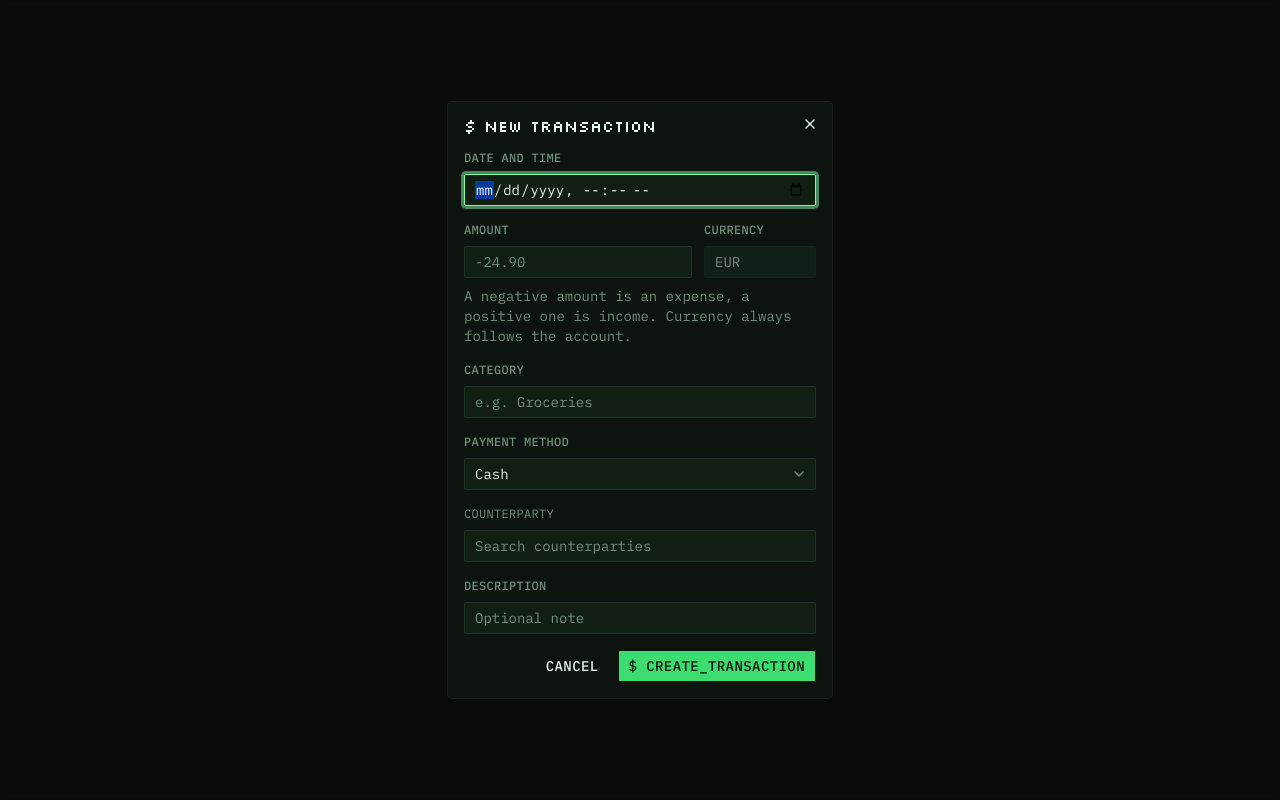
Test: <TransactionFormModal /> › blocks submission when no counterparty has been chosen
In the field labelled "Date and time": (640, 190) x1=464 y1=174 x2=816 y2=206, type "2026-03-04T09:15"
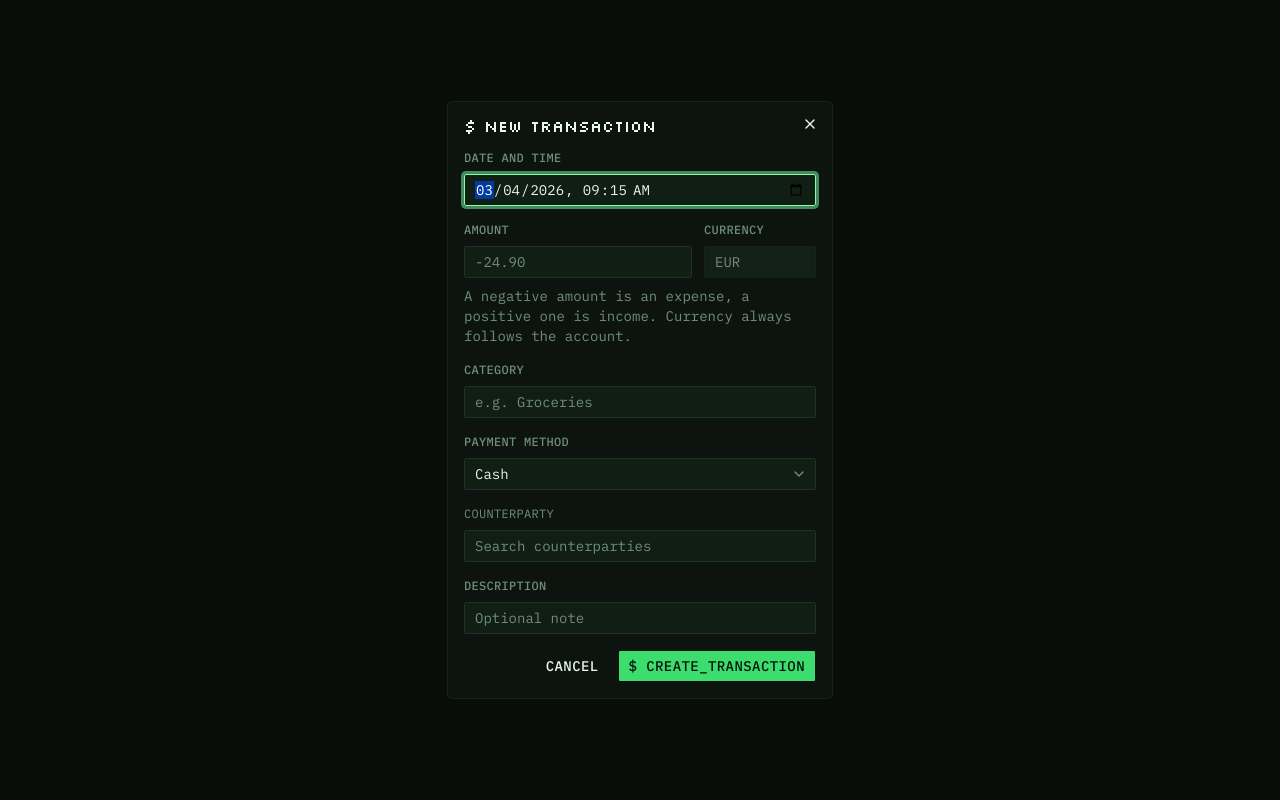
In the field labelled "Amount": (578, 262) x1=464 y1=246 x2=692 y2=278, type "-45.20"
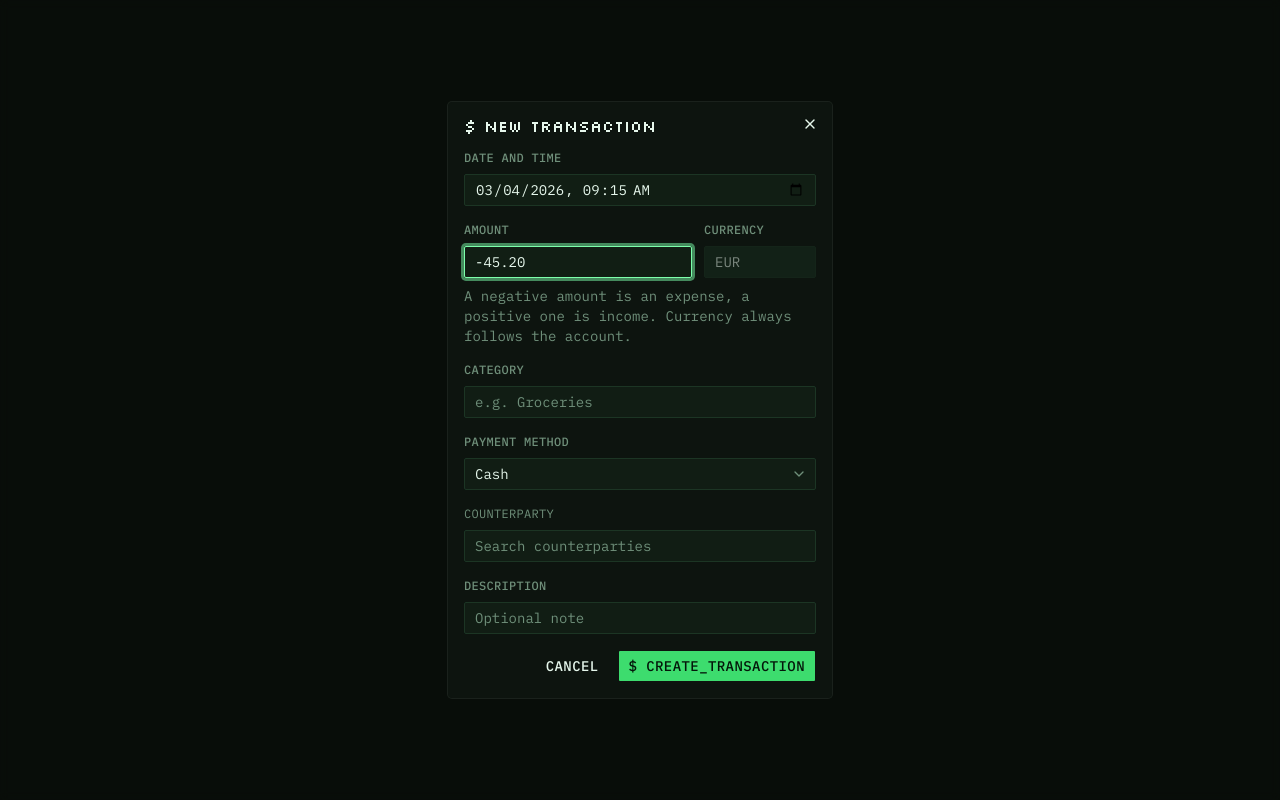
In the field labelled "Category": (640, 402) x1=464 y1=386 x2=816 y2=418, type "Groceries"
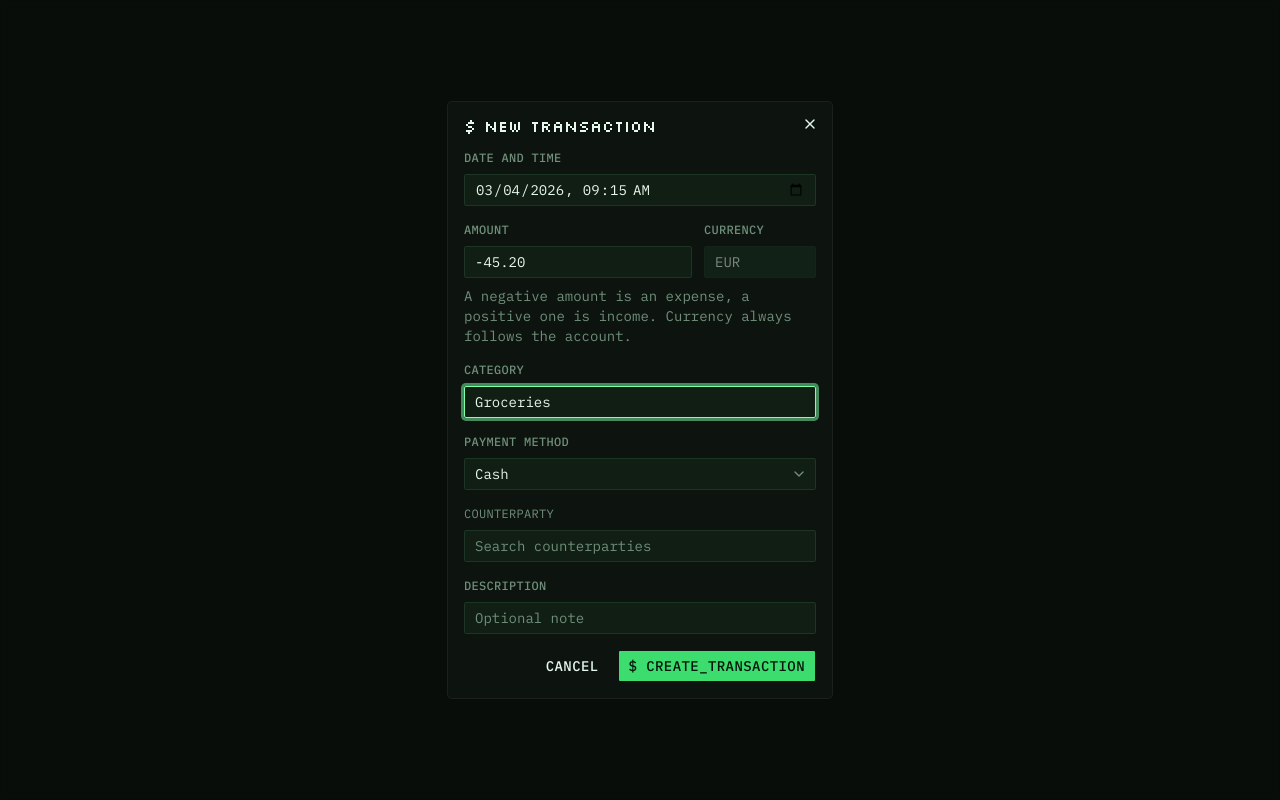
Click the button "$ CREATE_TRANSACTION": (717, 666) x1=618 y1=650 x2=816 y2=682
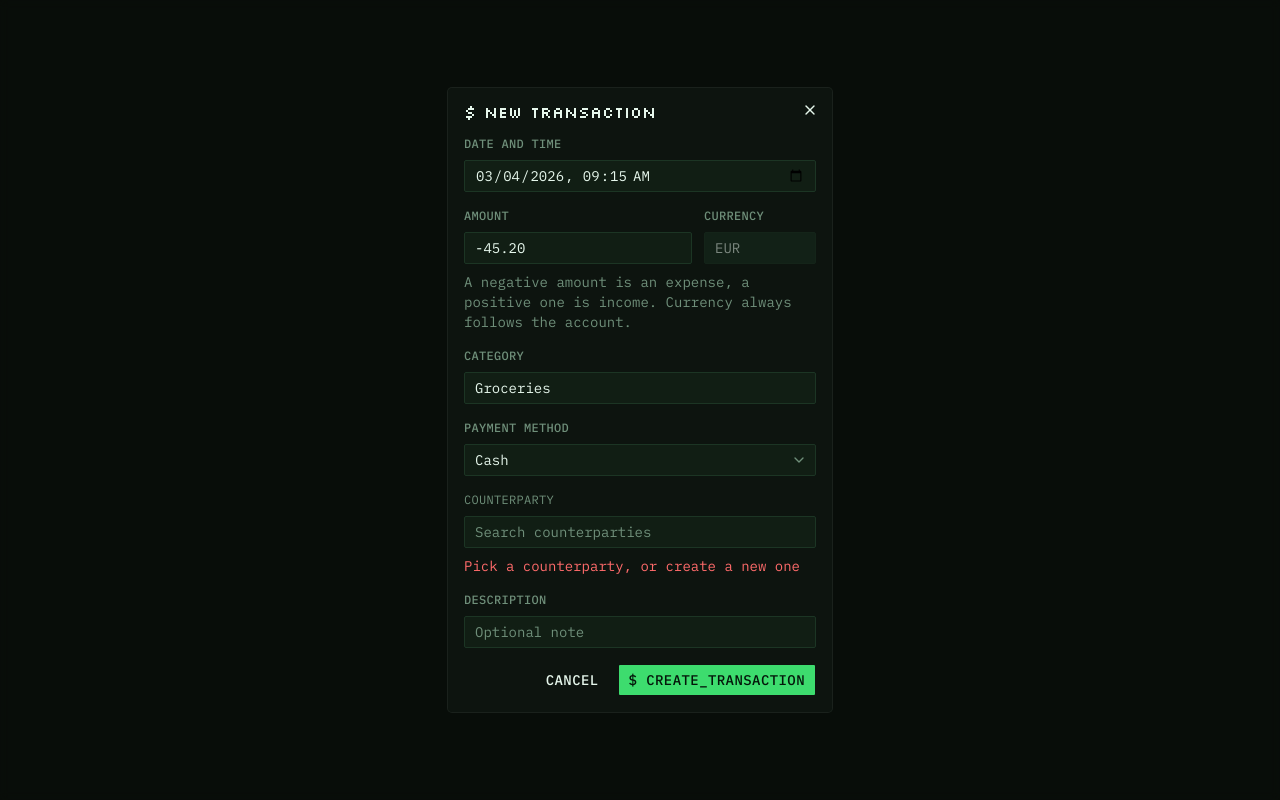
Result: the text "Pick a counterparty, or create a new one" is shown at x1=464 y1=556 x2=816 y2=576
